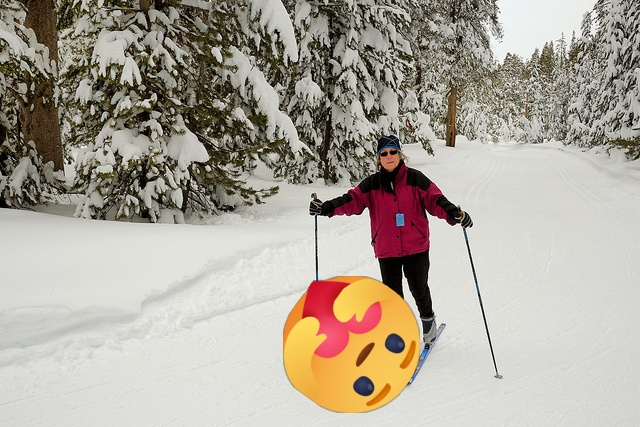care: (283, 276, 420, 413)
